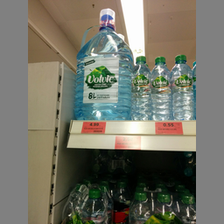water: (73, 8, 133, 120), (171, 55, 194, 121), (150, 56, 173, 121), (132, 56, 154, 120)
